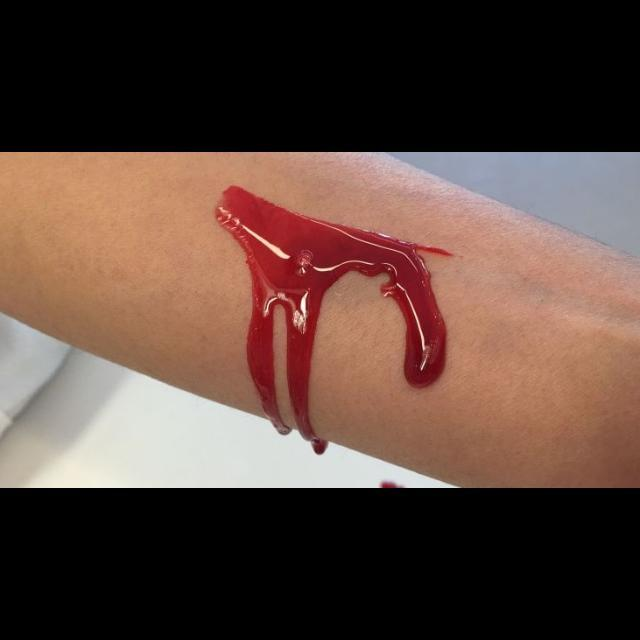blood: (215, 185, 454, 455)
